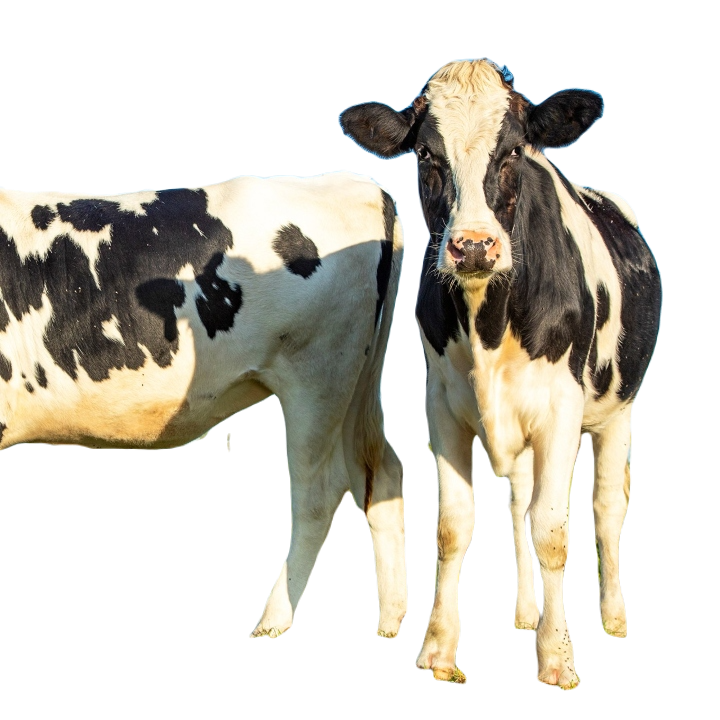Cow: (339, 56, 665, 689)
